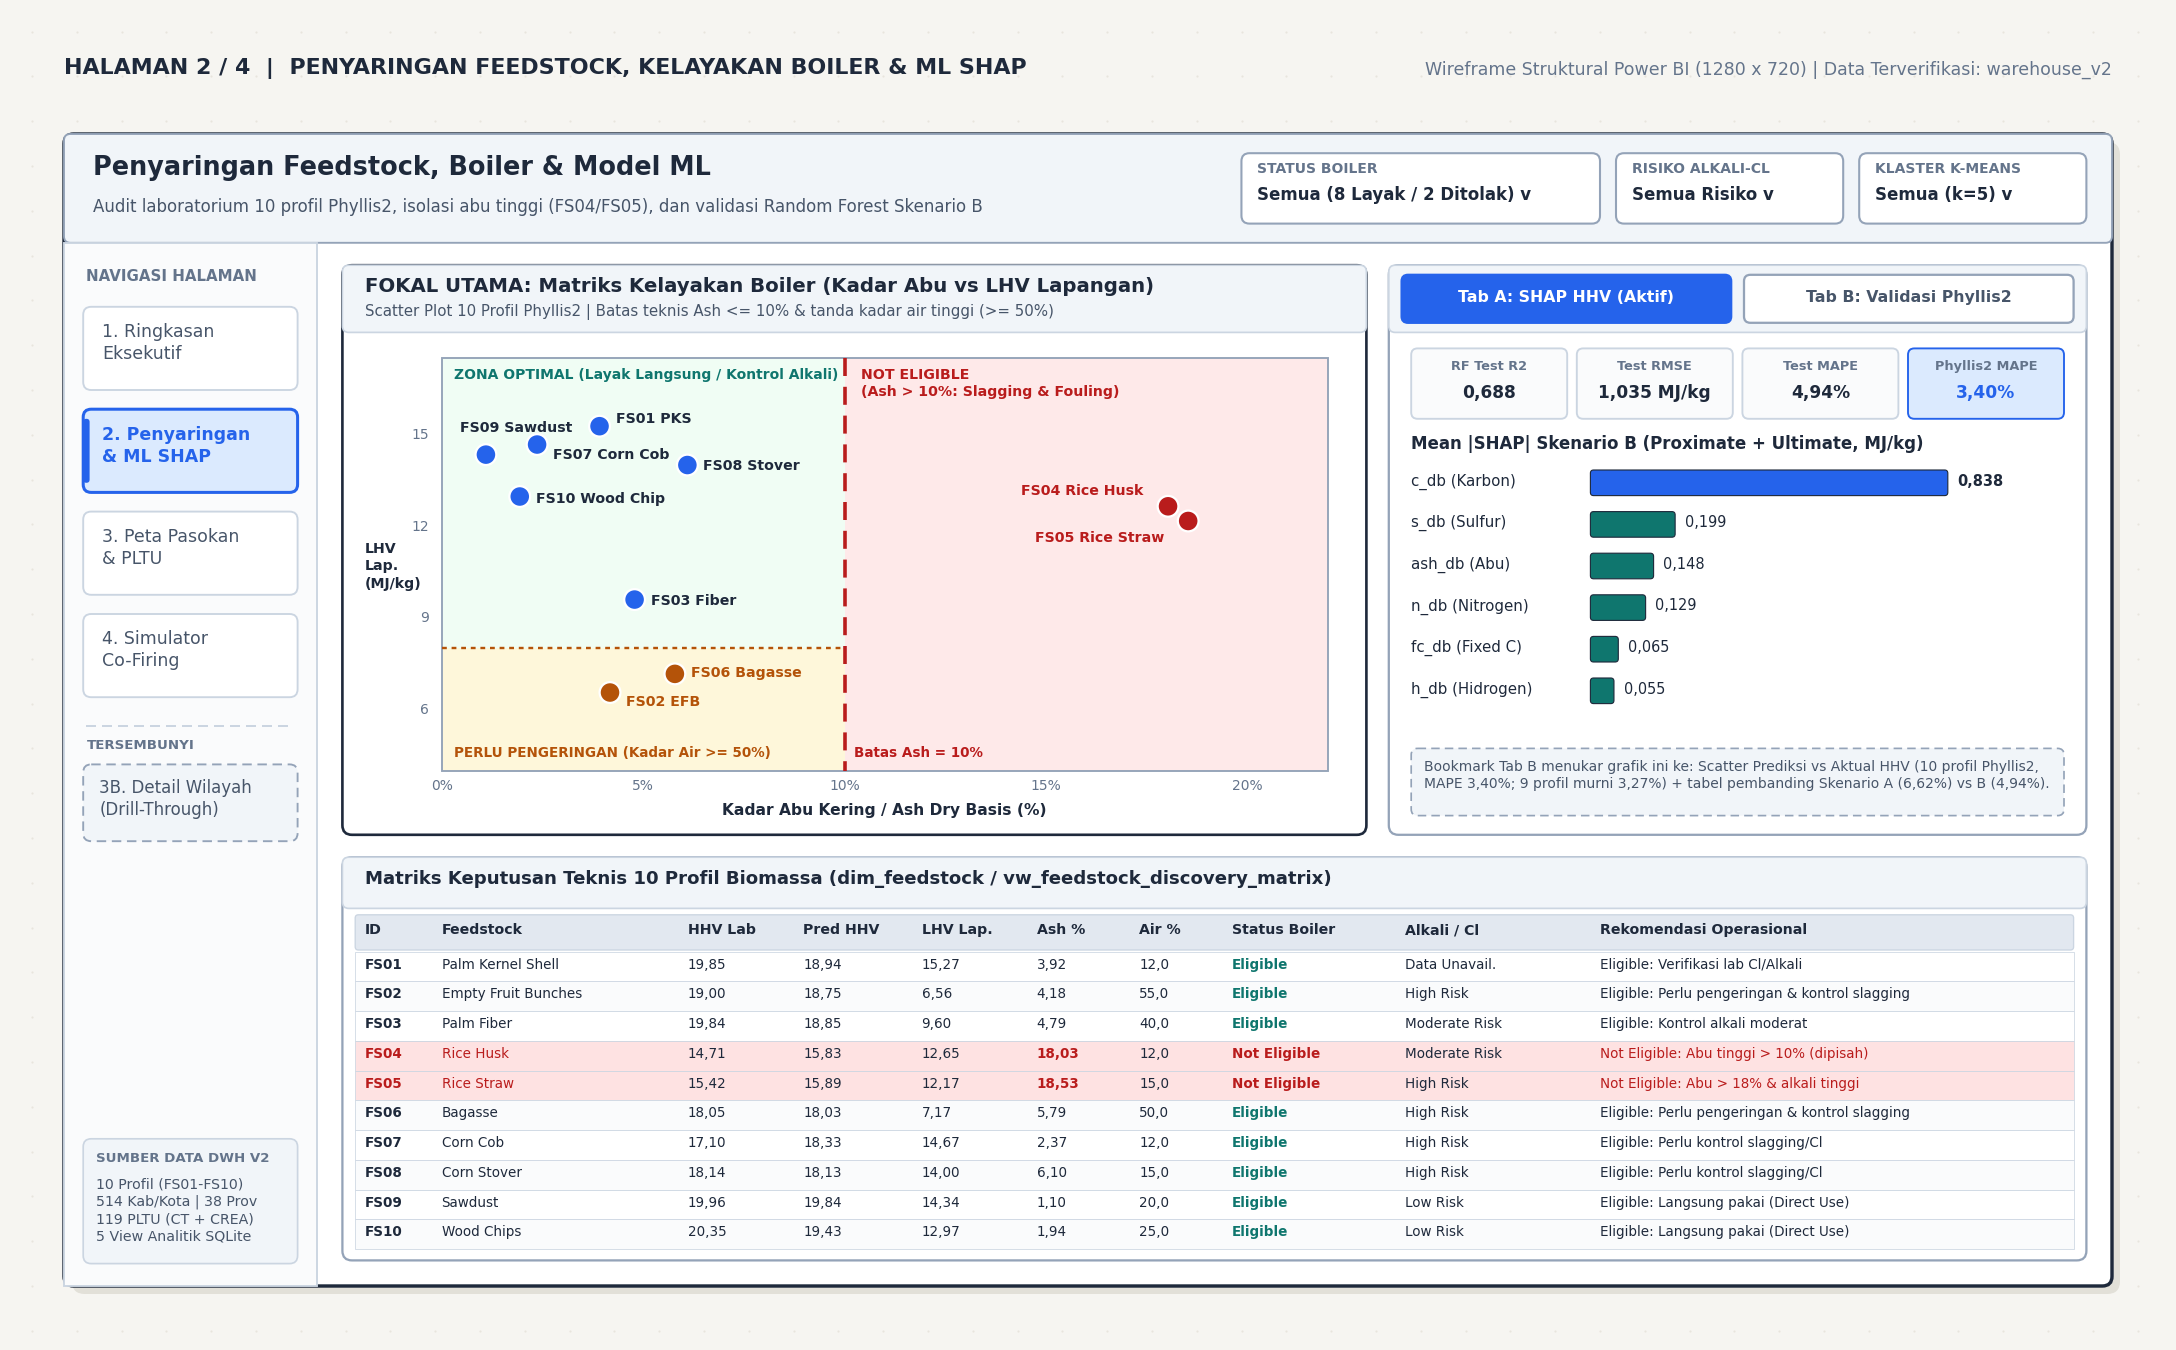

Layout of this report page (visuals, bound fields, positions):
{"tool":"powerbi","page":{"name":"Penyaringan & ML SHAP","canvas":[1280,720],"ordinal":1},"visuals":[{"type":"shape","box":[1.1,0,1278.9,104],"z":0},{"type":"card","title":"RF Test R2","fields":{"Values":["Sum(dim_ml_model_metrics.test_r2)"]},"box":[772,167,123,82],"z":0,"group":"g1"},{"type":"slicer","fields":{"Values":["dim_feedstock.boiler_status"]},"box":[630,15.7,200,70],"z":1000},{"type":"card","title":"Test RMSE","fields":{"Values":["Sum(dim_ml_model_metrics.test_mae_mj_kg)"]},"box":[895,167,131,81],"z":1000,"group":"g1"},{"type":"slicer","fields":{"Values":["dim_feedstock.alkali_chlorine_flag"]},"box":[851.4,15.7,200,70],"z":2000},{"type":"card","title":"Test MAPE","fields":{"Values":["Sum(dim_ml_model_metrics.test_mape_pct)"]},"box":[1026,167,127,81],"z":2000,"group":"g1"},{"type":"slicer","fields":{"Values":["dim_feedstock.cluster_label"]},"box":[1064.3,15.7,200,70],"z":3000},{"type":"card","title":"Phyllis2 MAPE","fields":{"Values":["Sum(dim_phyllis2_validation.err_full_pct)"]},"box":[1153,167,127,79],"z":3000,"group":"g1"},{"type":"scatterChart","title":"Boiler Eligibility Matrix (Ash vs. Field LHV)","fields":{"Category":["dim_feedstock.feedstock_id"],"X":["Avg(dim_feedstock.ash_db)"],"Y":["Avg(dim_feedstock.effective_lhv_field_mj_kg)"],"Series":["dim_feedstock.boiler_status"]},"box":[191.4,112.9,572.9,362.9],"z":4000},{"type":"clusteredBarChart","title":"Mean | SHAP | Skenario Proximate + Ultimate, Mj/Kg)","fields":{"Category":["dim_shap_importance.feature_label_id"],"Y":["Sum(dim_shap_importance.mean_abs_shap_mj_kg)"]},"box":[772,256,508,220],"z":4000,"group":"g1"},{"type":"pageNavigator","title":"NAVIGASI HALAMAN","box":[11.1,113.3,170,606.7],"z":6000},{"type":"group","id":"g1","title":"TAB A","box":[772,167,508,309],"z":7000},{"type":"bookmarkNavigator","box":[771.7,106.7,508.3,50],"z":8000},{"type":"tableEx","fields":{"Values":["dim_feedstock.feedstock_id","dim_feedstock.feedstock_name","Sum(dim_feedstock.actual_hhv_db)","Sum(dim_feedstock.predicted_hhv_full_db)","Sum(dim_feedstock.effective_lhv_field_mj_kg)","Sum(dim_feedstock.ash_db)","Sum(dim_feedstock.moisture_lapangan_pct)","dim_feedstock.boiler_status","dim_feedstock.alkali_chlorine_flag","dim_feedstock.screening_recommendation"]},"box":[191.1,487.8,1088.9,232.2],"z":9000},{"type":"textbox","box":[11.1,15.6,591.1,70],"z":10000}]}

Visuals, with their boxes on the page's 1280x720 design canvas (x1, y1, x2, y2). These are canvas units, not pixel positions in the 2176x1350 screenshot, which may show the page scaled, cropped or inside an application window:
shape: left=1, top=0, right=1280, bottom=104
"RF Test R2" card: left=772, top=167, right=895, bottom=249
slicer - dim_feedstock.boiler_status: left=630, top=16, right=830, bottom=86
"Test RMSE" card: left=895, top=167, right=1026, bottom=248
slicer - dim_feedstock.alkali_chlorine_flag: left=851, top=16, right=1051, bottom=86
"Test MAPE" card: left=1026, top=167, right=1153, bottom=248
slicer - dim_feedstock.cluster_label: left=1064, top=16, right=1264, bottom=86
"Phyllis2 MAPE" card: left=1153, top=167, right=1280, bottom=246
"Boiler Eligibility Matrix (Ash vs. Field LHV)" scatterChart: left=191, top=113, right=764, bottom=476
"Mean | SHAP | Skenario Proximate + Ultimate, Mj/Kg)" clusteredBarChart: left=772, top=256, right=1280, bottom=476
"NAVIGASI HALAMAN" pageNavigator: left=11, top=113, right=181, bottom=720
"TAB A" group: left=772, top=167, right=1280, bottom=476
bookmarkNavigator: left=772, top=107, right=1280, bottom=157
tableEx - dim_feedstock.feedstock_id x dim_feedstock.feedstock_name: left=191, top=488, right=1280, bottom=720
textbox: left=11, top=16, right=602, bottom=86
